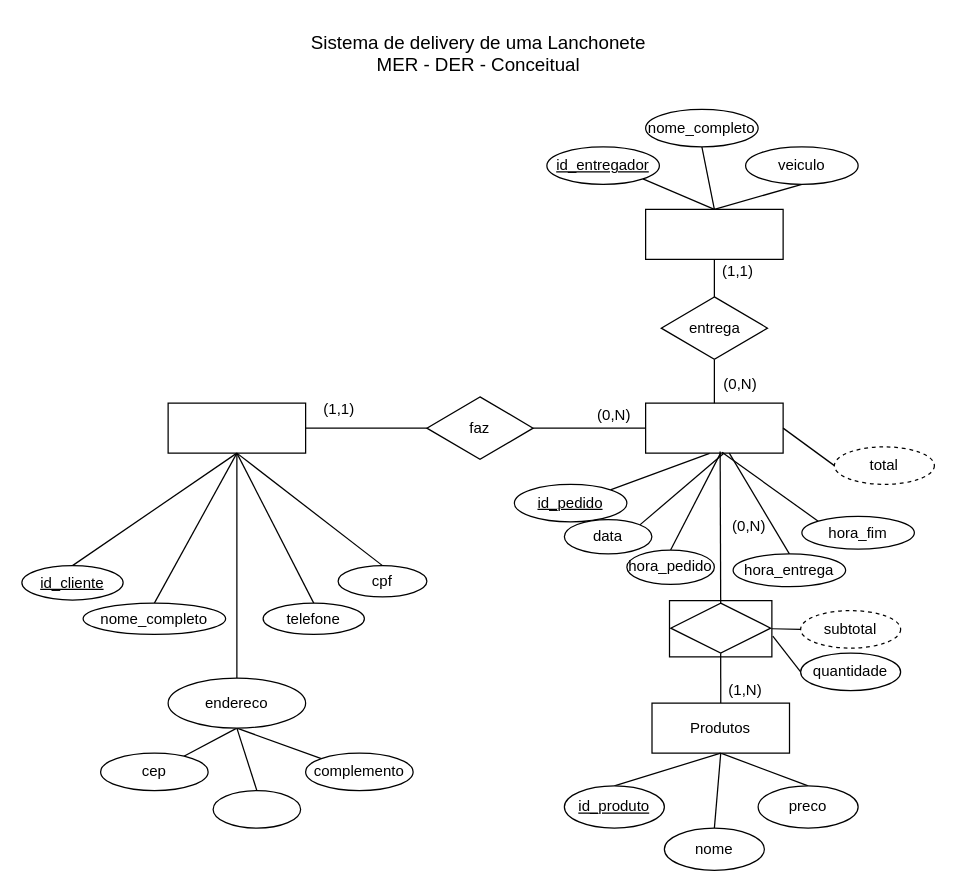
Image size: 956x893. Some labels were removed from this diagram. The shapes that lost their labels are listed below. From the top down, each one's centre as x and y in pixels, then its label:
[713,233]: Entregadores
[236,427]: Clientes
[713,427]: Pedidos
[720,627]: itens
[256,808]: numero
